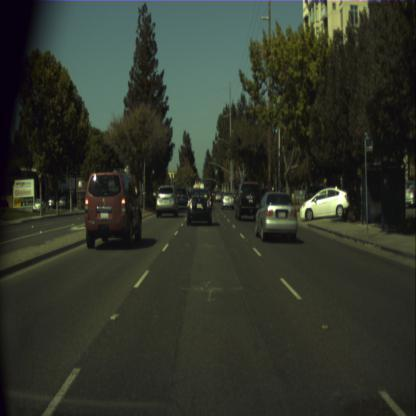Yellow: (186, 176, 188, 184)
